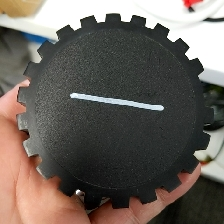gear: (14, 11, 215, 211)
missing: (183, 55, 216, 128)
